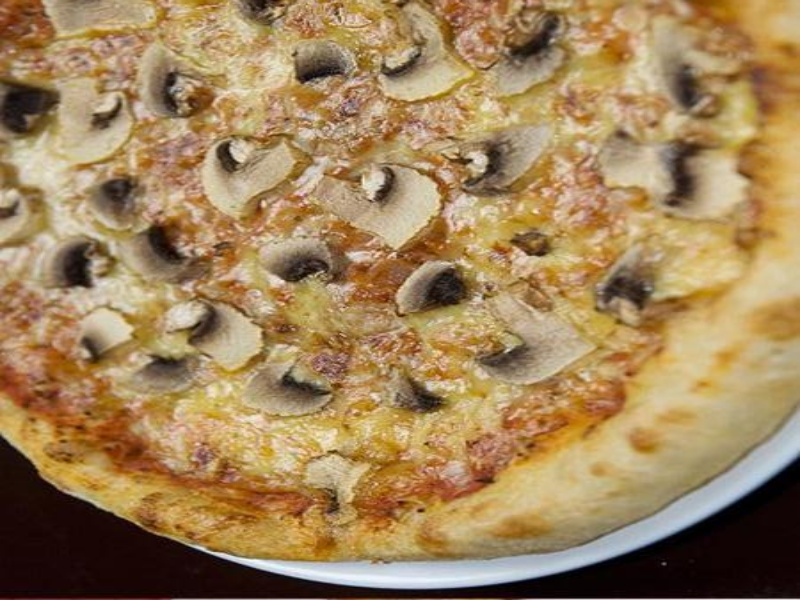champignon: (462, 290, 609, 388), (317, 163, 447, 256), (369, 15, 485, 111), (198, 137, 316, 224), (240, 354, 345, 426), (385, 254, 478, 319)
